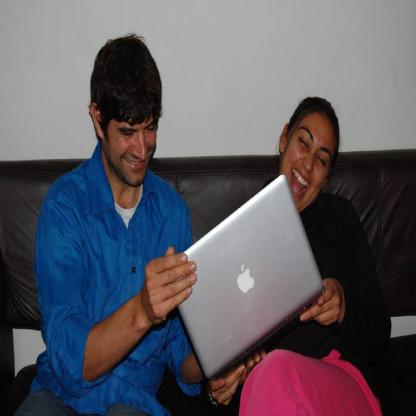board: (159, 171, 331, 397)
